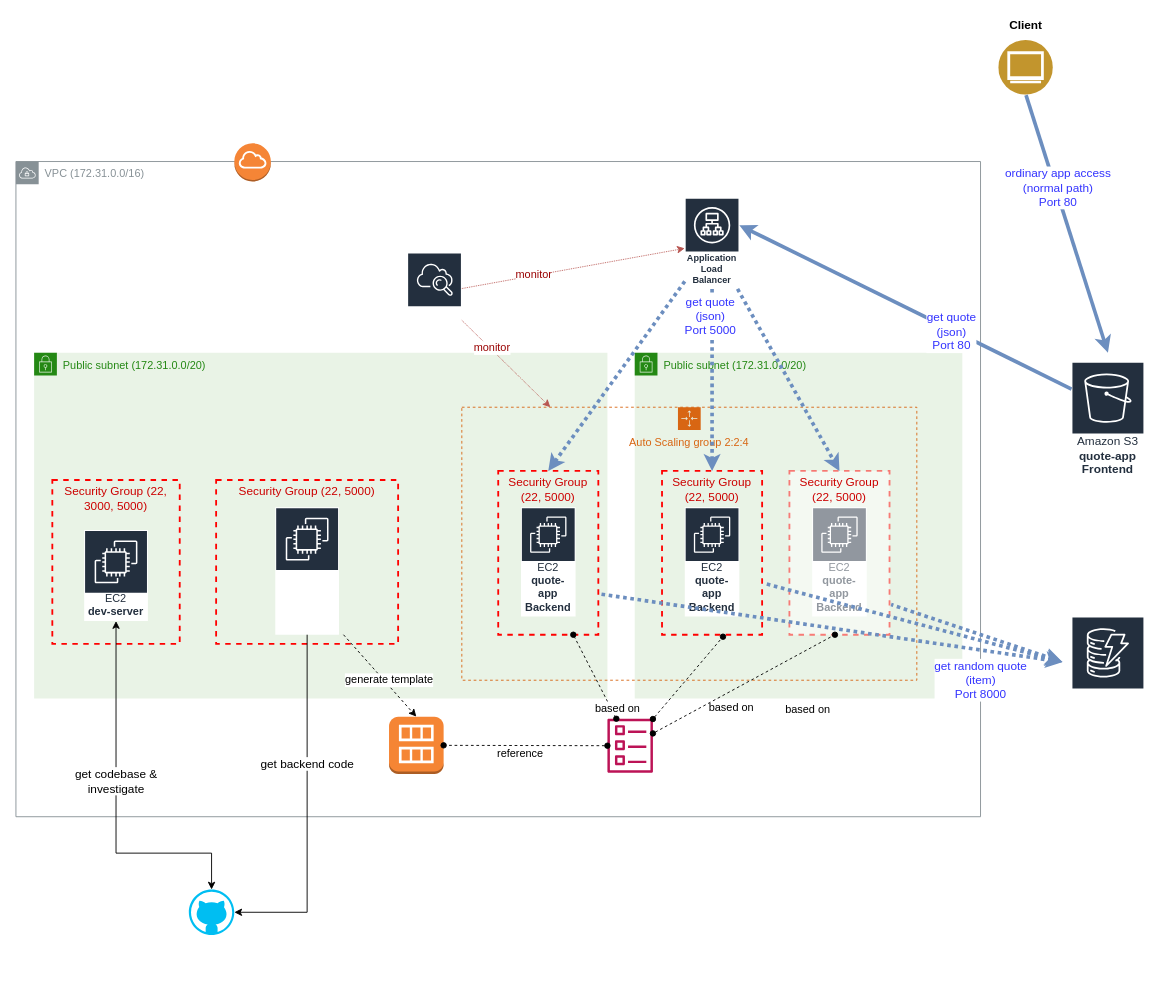
The diagram is 1160 pixels wide and 999 high, and some of its shapes have lost their labels. Each missing label, with the centre of its shape:
"Amazon CloudWatch" goes at point (434, 293).
"AMI Template Backend" goes at point (416, 745).
"ASG Launch Template" goes at point (629, 745).
"DynamoDB quotations" goes at point (1107, 671).
"EC2 quote-app Backend Template" goes at point (306, 570).
"Github quote-app Codebase" goes at point (211, 912).
"Internet Gateway" goes at point (252, 162).
